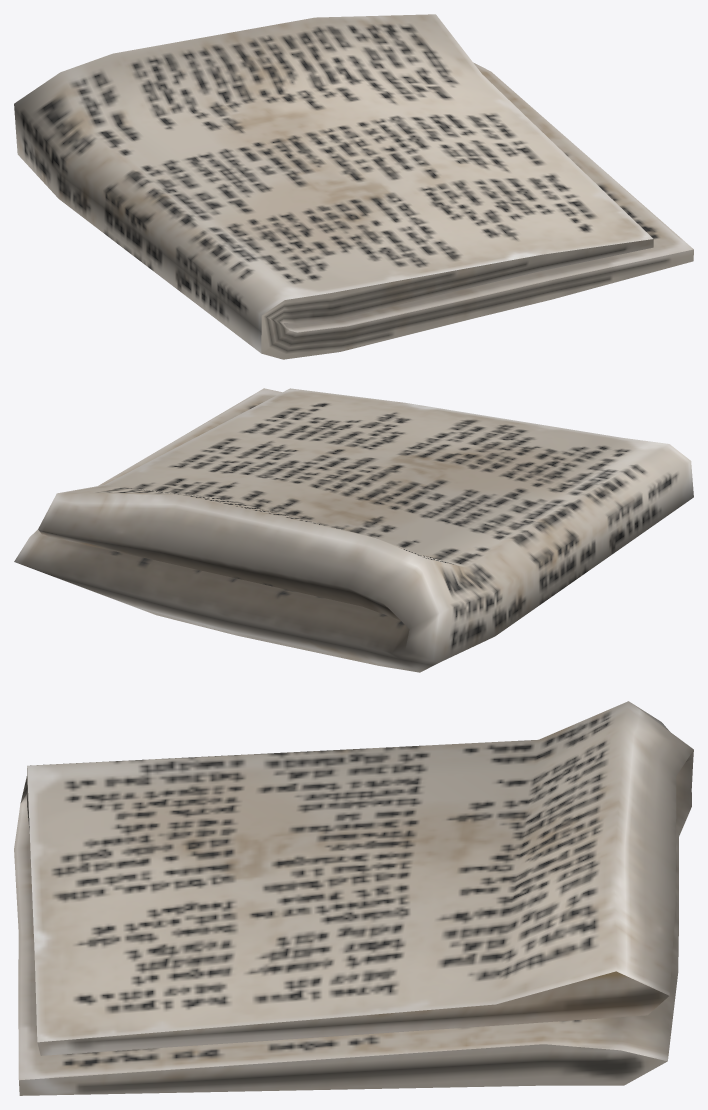
Rendered from newspaper_B.fbx.
3 renders of one model, top to bottom at view 1: azimuth 30°, elevation 25°; view 2: azimuth 150°, elevation 25°; view 3: azimuth 270°, elevation 25°, orthographic. The views are drawn at different scales.
Visible parts, largest first — view 1: newspaper_B; view 2: newspaper_B; view 3: newspaper_B.
Part boxes in pixels (x1,y1,x2,y2): newspaper_B: (14,14,693,359); newspaper_B: (14,388,693,672); newspaper_B: (14,701,693,1095).
Size of the model in its own units: 31.94 by 8.86 by 33.69.
